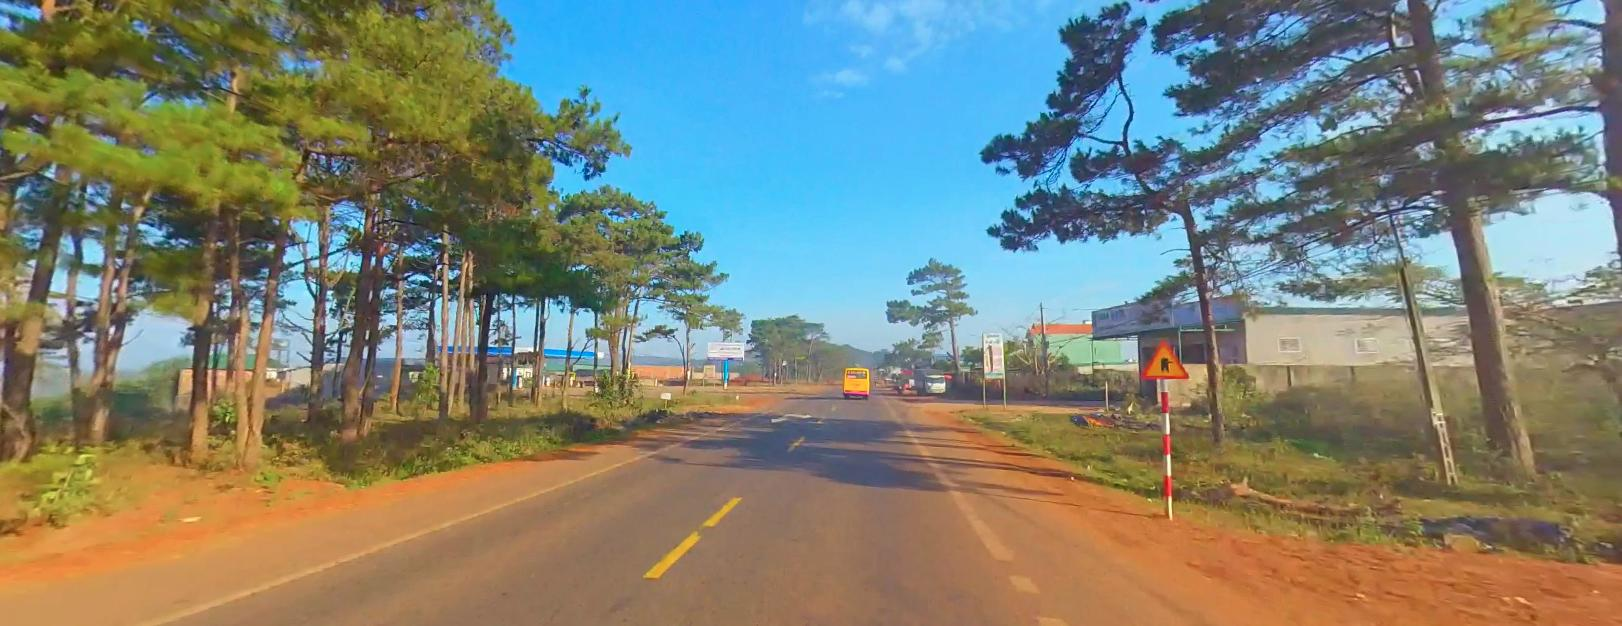Nguy hiem: (1139, 338, 1190, 378)
